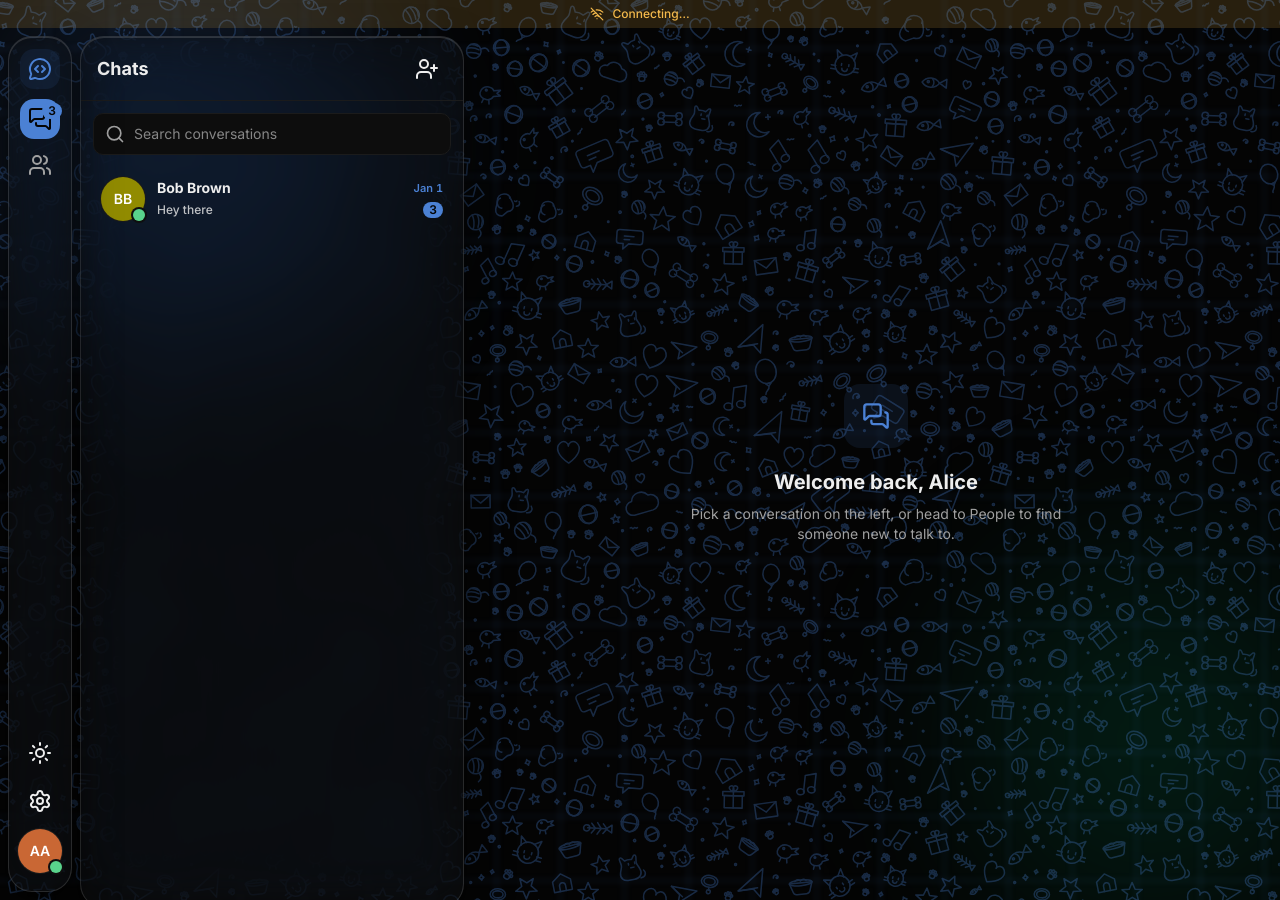
Scenario: signed-in shell › switches the sidebar to the people panel
Click the button named "people" at point(40, 165), box [20,145,60,185]
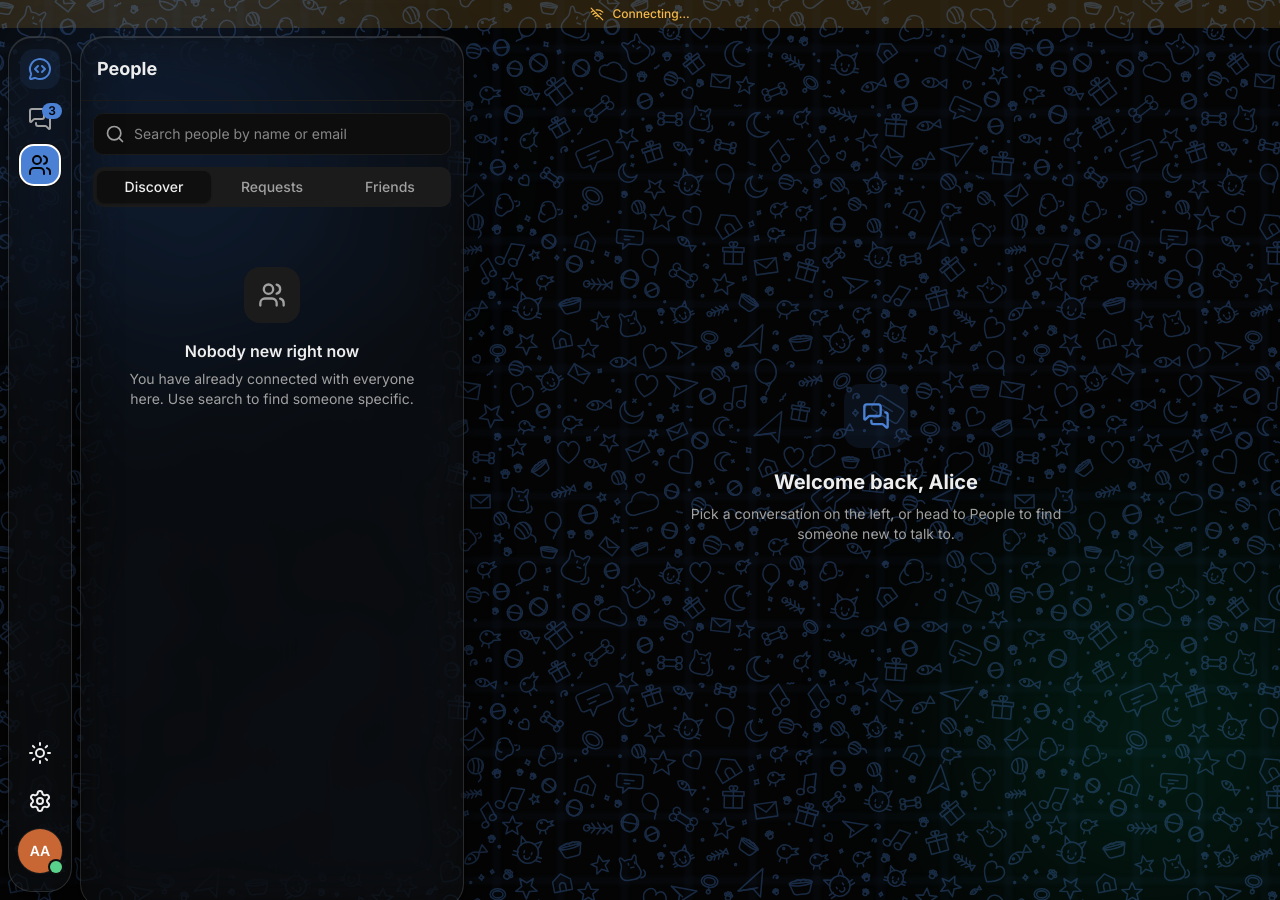
Expected: the search field with placeholder "Search people by name or email" is shown, [93,113,451,155]
